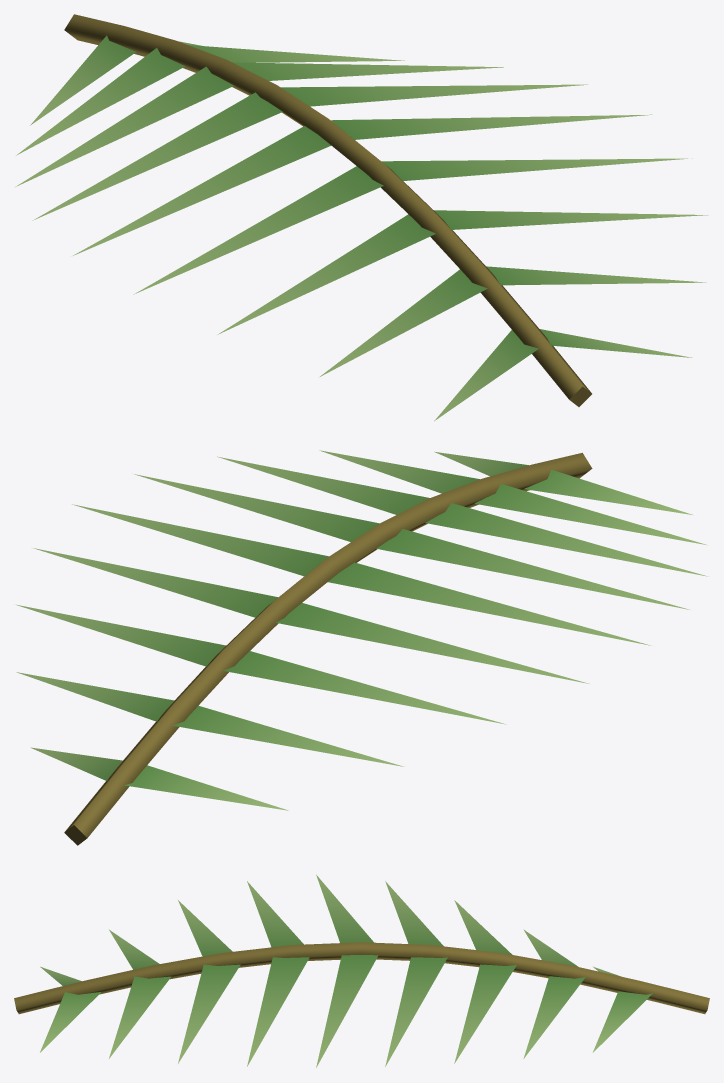
The model's file is palm_frond.glb.
3 renders of one model, top to bottom at view 1: azimuth 30°, elevation 25°; view 2: azimuth 150°, elevation 25°; view 3: azimuth 270°, elevation 25°, orthographic. The views are drawn at different scales.
Parts seen in each view (by area): view 1: palm_frond; view 2: palm_frond; view 3: palm_frond.
Part boxes in pixels (left/top/right/bottom): palm_frond: left=15, top=14, right=708, bottom=421; palm_frond: left=16, top=450, right=707, bottom=845; palm_frond: left=14, top=874, right=709, bottom=1067.
Size of the model in its own units: 0.6 by 0.1036 by 0.9064.
